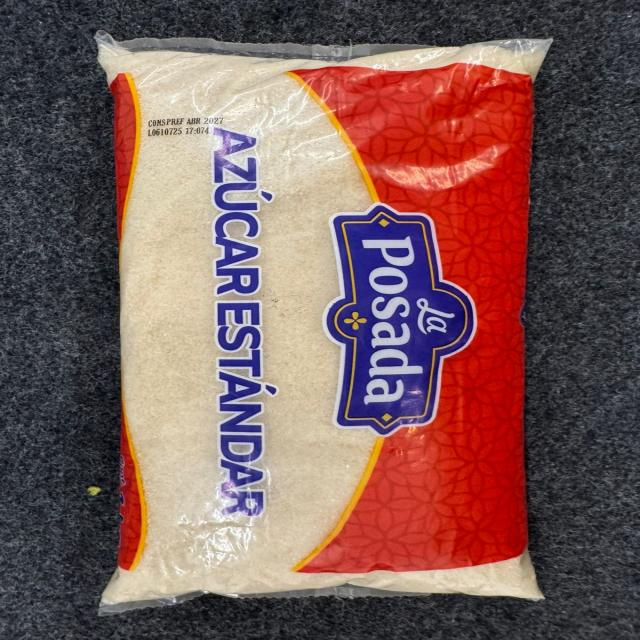Azucar Estandar La Posada 1 kg: (92, 33, 553, 607)
